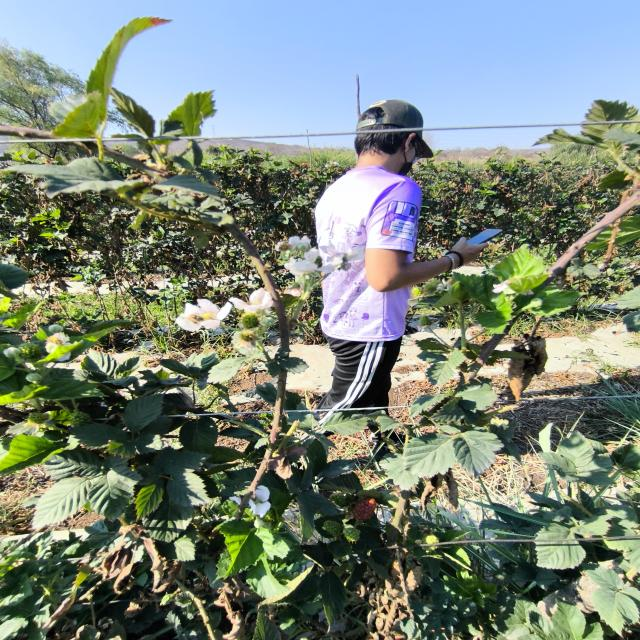flor: (175, 299, 232, 331), (320, 244, 364, 273), (230, 288, 273, 313), (284, 258, 319, 276)
